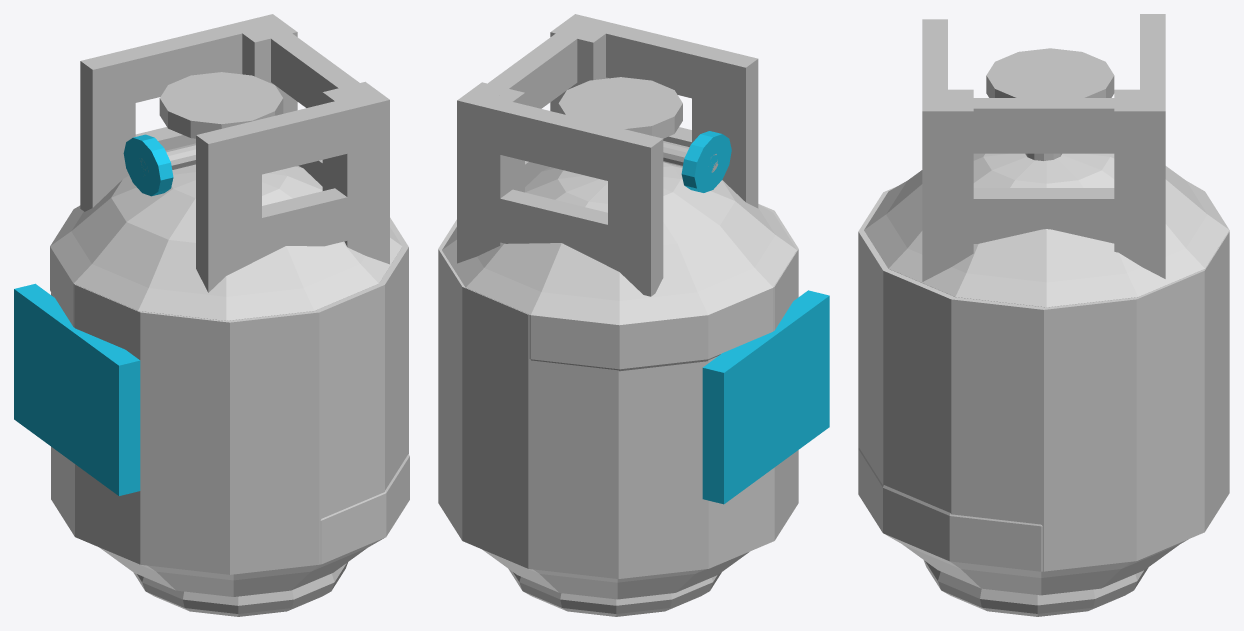
The model's file is PropaneTank.fbx.
The picture shows the model from 3 angles, left to right: view 1: azimuth 30°, elevation 25°; view 2: azimuth 150°, elevation 25°; view 3: azimuth 270°, elevation 25°; orthographic projection. The views are drawn at different scales.
Parts seen in each view (by area): view 1: group1; view 2: group1; view 3: group1.
Boxes of the visible parts, left/top/right/bottom form: group1: left=14, top=14, right=409, bottom=616; group1: left=438, top=14, right=829, bottom=616; group1: left=858, top=14, right=1229, bottom=616.
Size of the model in its own units: 0.295 by 0.4433 by 0.29.
